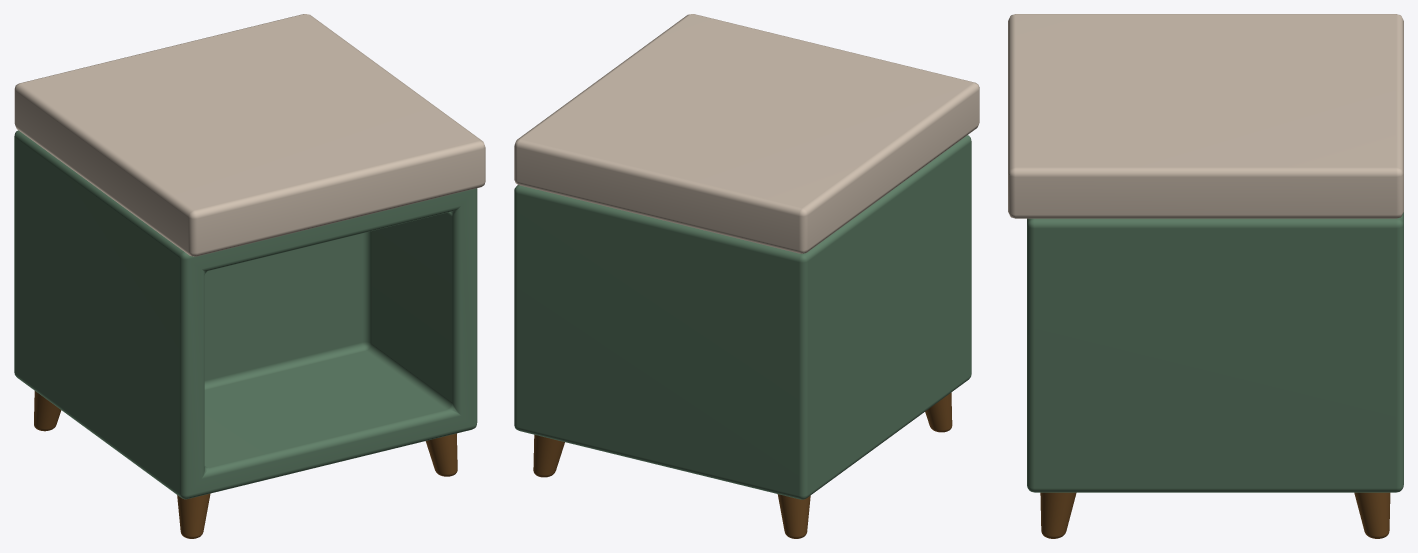
The model's file is SM_Kitchen_Cabinet_G.fbx.
The picture shows the model from 3 angles, left to right: view 1: azimuth 30°, elevation 25°; view 2: azimuth 150°, elevation 25°; view 3: azimuth 270°, elevation 25°; orthographic projection. The views are drawn at different scales.
Visible parts, largest first — view 1: SM_Kitchen_Cabinet_G, SM_Kitchen_Cabinet_G.002, SM_Kitchen_Cabinet_G.001; view 2: SM_Kitchen_Cabinet_G, SM_Kitchen_Cabinet_G.002, SM_Kitchen_Cabinet_G.001; view 3: SM_Kitchen_Cabinet_G, SM_Kitchen_Cabinet_G.002, SM_Kitchen_Cabinet_G.001.
Boxes of the visible parts, bbox=[...] form: SM_Kitchen_Cabinet_G: bbox=[14, 130, 477, 499]; SM_Kitchen_Cabinet_G.002: bbox=[14, 14, 485, 256]; SM_Kitchen_Cabinet_G.001: bbox=[34, 391, 457, 538]; SM_Kitchen_Cabinet_G: bbox=[514, 135, 971, 499]; SM_Kitchen_Cabinet_G.002: bbox=[514, 14, 979, 253]; SM_Kitchen_Cabinet_G.001: bbox=[533, 392, 952, 538]; SM_Kitchen_Cabinet_G: bbox=[1027, 212, 1403, 492]; SM_Kitchen_Cabinet_G.002: bbox=[1008, 14, 1403, 218]; SM_Kitchen_Cabinet_G.001: bbox=[1040, 492, 1390, 538].
Size of what is drawn, in the model's own units: 100 by 110 by 105.
